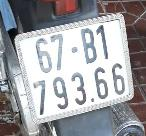1: (94, 22, 115, 63)
3: (68, 69, 90, 108)
6: (33, 35, 55, 77), (91, 63, 113, 103), (109, 60, 129, 99)
7: (49, 31, 71, 74), (30, 77, 52, 118)
9: (51, 74, 75, 113)
B: (79, 26, 102, 68)
